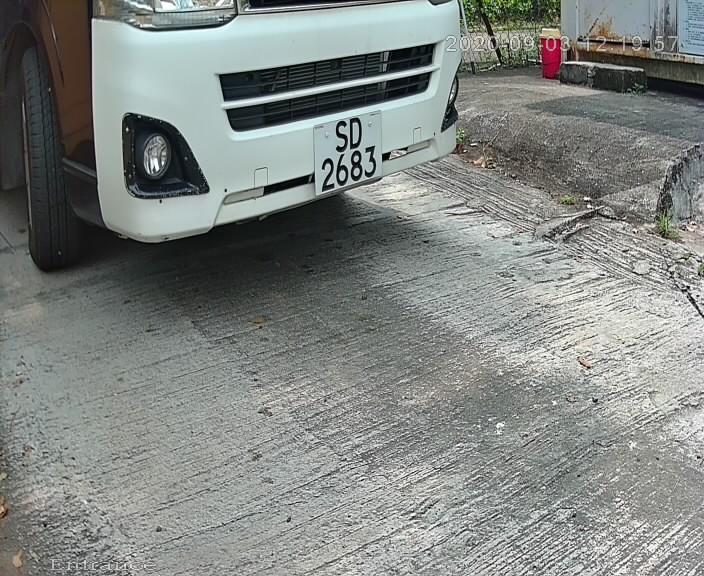Car: (38, 1, 500, 299)
License Plate: (299, 101, 393, 206)
